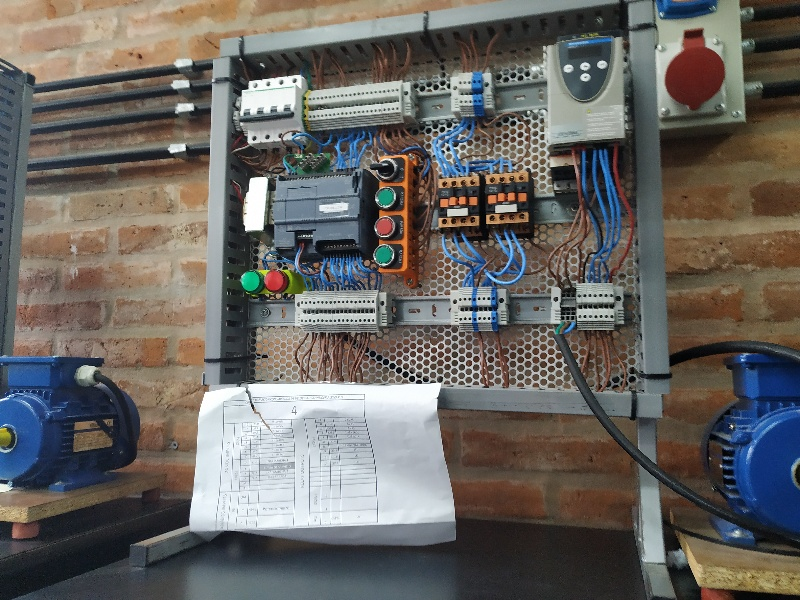Tablero 4: (223, 1, 646, 380)
